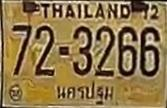2: (34, 24, 54, 76), (95, 26, 114, 76)
3: (72, 26, 91, 74)
6: (139, 26, 159, 76), (117, 26, 136, 75)
7: (11, 24, 31, 75)
NPT: (52, 80, 114, 105)
